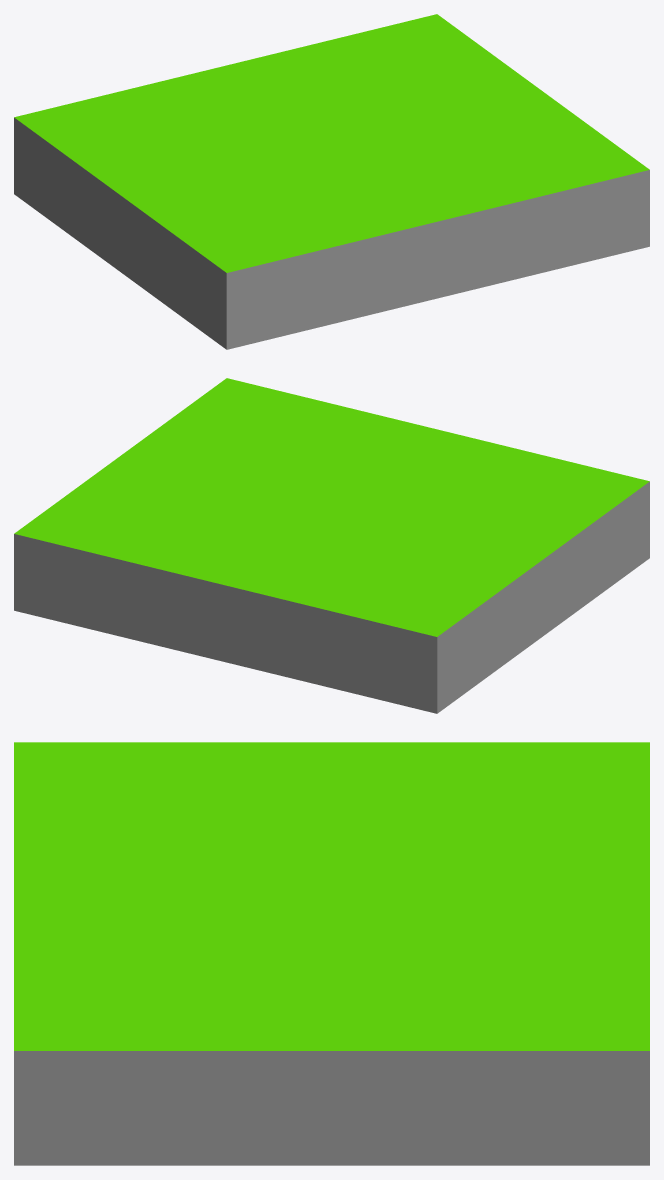
File: Ground_Multiplier_D.fbx
The picture shows the model from 3 angles, top to bottom: view 1: azimuth 30°, elevation 25°; view 2: azimuth 150°, elevation 25°; view 3: azimuth 270°, elevation 25°; orthographic projection. The views are drawn at different scales.
Visible parts, largest first — view 1: Ground_Multiplier_D; view 2: Ground_Multiplier_D; view 3: Ground_Multiplier_D.
Boxes of the visible parts, bbox=[...] form: Ground_Multiplier_D: bbox=[14, 14, 649, 349]; Ground_Multiplier_D: bbox=[14, 378, 649, 713]; Ground_Multiplier_D: bbox=[14, 742, 649, 1165].
Bounding box in the file's own units: 187 × 32.46 × 163.
